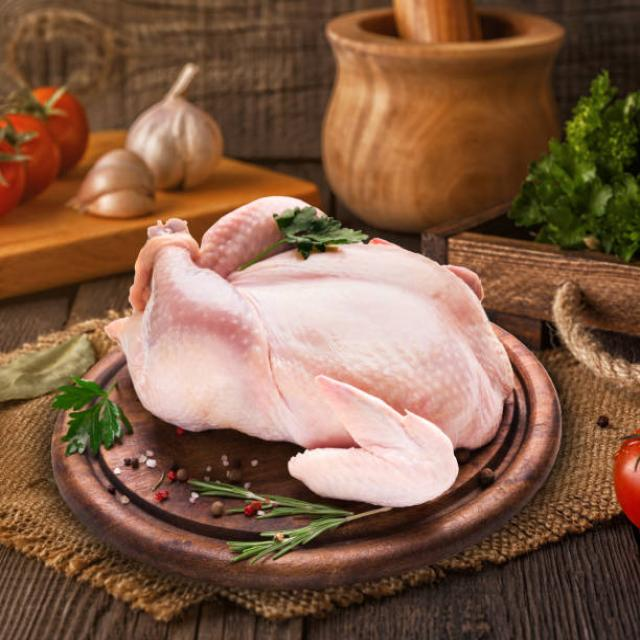Chicken: (104, 185, 528, 510)
